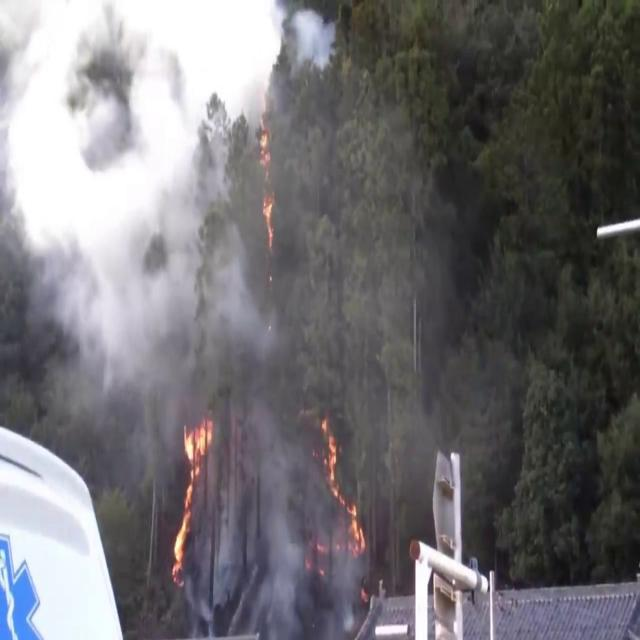Fire: (169, 406, 217, 579), (318, 418, 365, 548)
Smoke: (0, 0, 342, 393), (220, 357, 362, 632)
